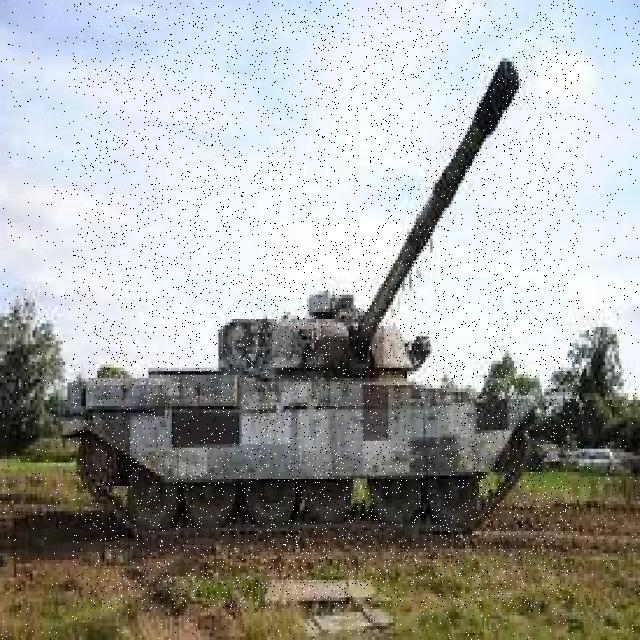MIL_MBT: (73, 3, 579, 608)
